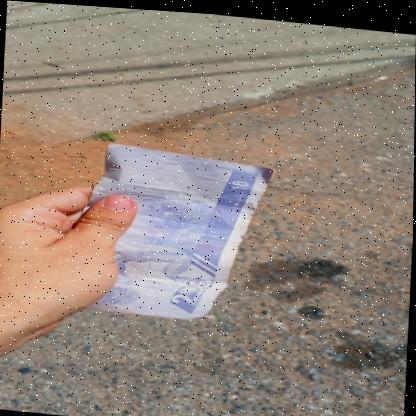ten-back-vef: (84, 141, 273, 325)
